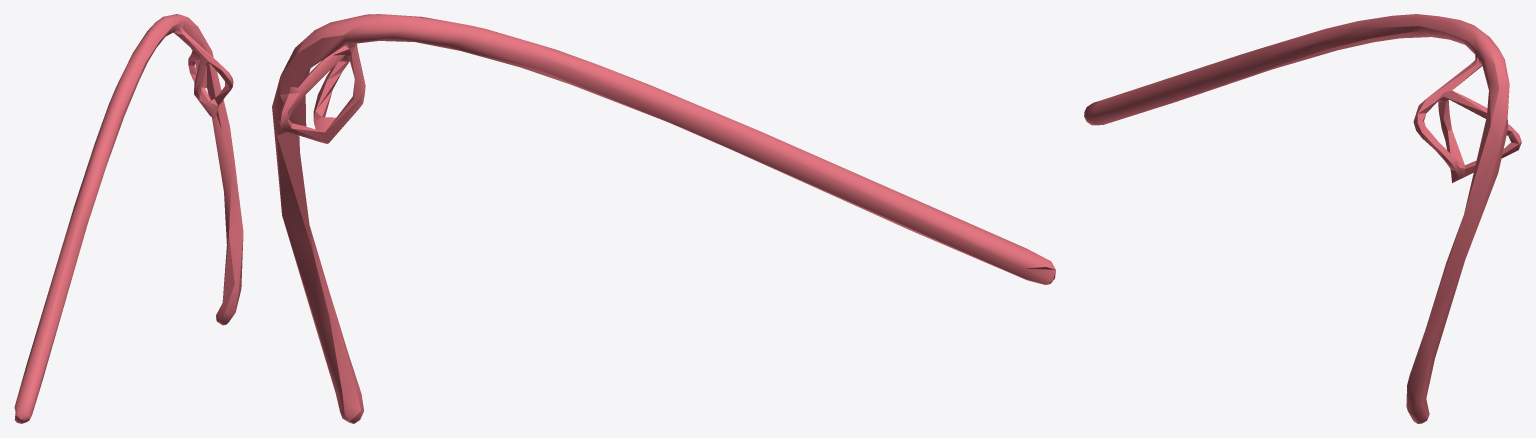
The model's file is fma49850_fj5201.glb.
3 views of the same model, side by side, from view 1: azimuth 30°, elevation 25°; view 2: azimuth 150°, elevation 25°; view 3: azimuth 270°, elevation 25° (orthographic). The views are drawn at different scales.
Parts seen in each view (by area): view 1: FMA49850_FJ5201; view 2: FMA49850_FJ5201; view 3: FMA49850_FJ5201.
Boxes of the visible parts, bbox=[...] form: FMA49850_FJ5201: bbox=[14, 14, 243, 423]; FMA49850_FJ5201: bbox=[272, 14, 1055, 423]; FMA49850_FJ5201: bbox=[1084, 14, 1521, 423].
Bounding box in the file's own units: 0.0123 × 0.00954 × 0.0102.
